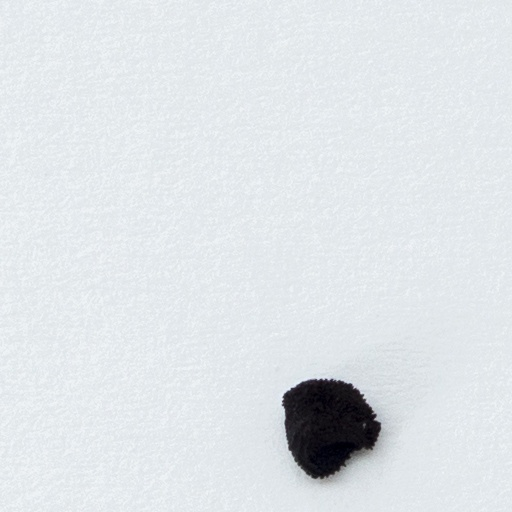Agrostemma: (279, 375, 381, 481)
